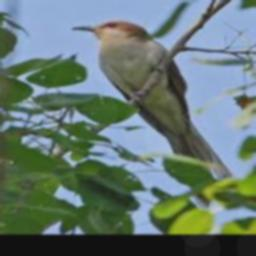Cuckoo: (71, 20, 232, 208)
